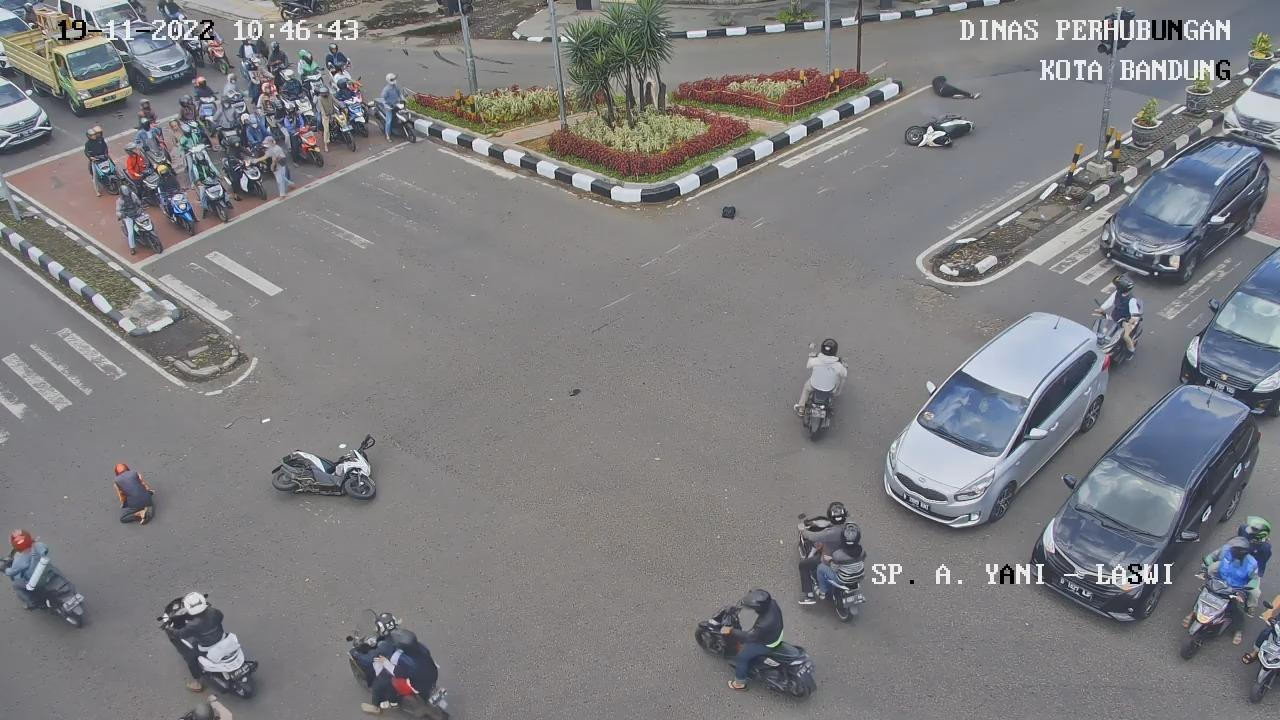accident: (96, 459, 162, 539), (932, 75, 982, 101)
